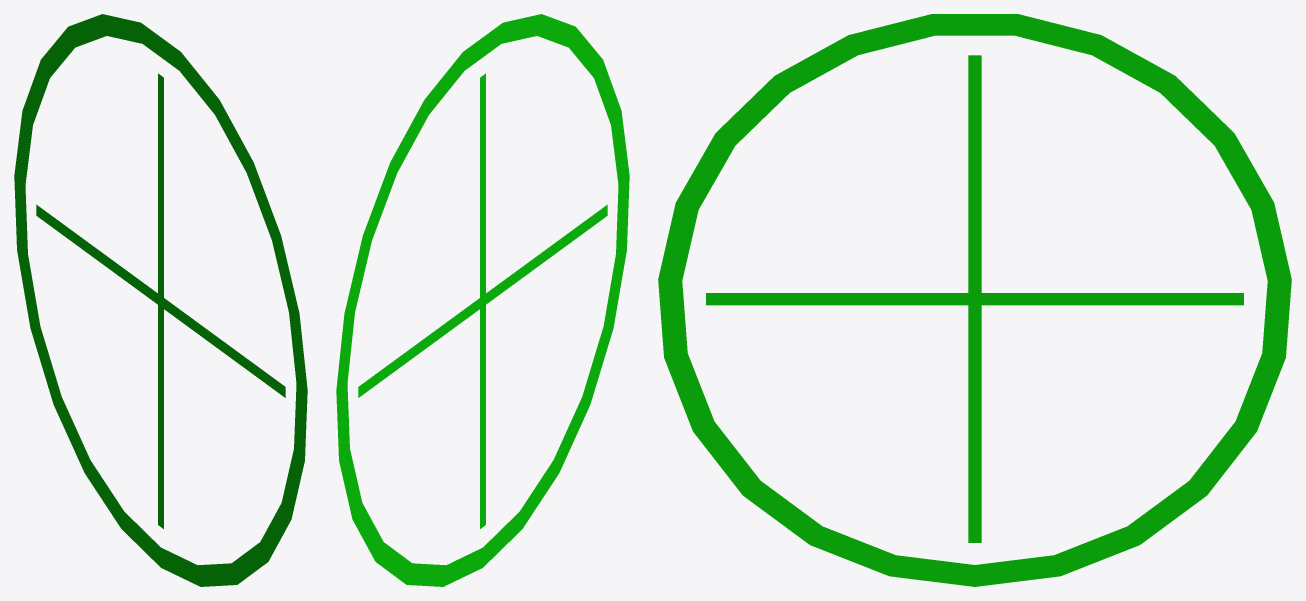
The model's file is Crosshair.fbx.
3 views of the same model, side by side, from view 1: azimuth 30°, elevation 25°; view 2: azimuth 150°, elevation 25°; view 3: azimuth 270°, elevation 25° (orthographic). The views are drawn at different scales.
Parts seen in each view (by area): view 1: Röhre, Würfel_1, Würfel_2; view 2: Röhre, Würfel_1, Würfel_2; view 3: Röhre, Würfel_1, Würfel_2.
Part boxes in pixels (x1=…): Röhre: x1=14, y1=14, x2=307, y2=586; Würfel_1: x1=36, y1=204, x2=285, y2=397; Würfel_2: x1=158, y1=73, x2=163, y2=528; Röhre: x1=336, y1=14, x2=629, y2=586; Würfel_1: x1=358, y1=204, x2=607, y2=397; Würfel_2: x1=480, y1=73, x2=485, y2=528; Röhre: x1=658, y1=14, x2=1291, y2=586; Würfel_1: x1=706, y1=293, x2=1243, y2=305; Würfel_2: x1=968, y1=55, x2=981, y2=542.
Size of the model in its own units: 6.65e-14 by 235 by 235.
